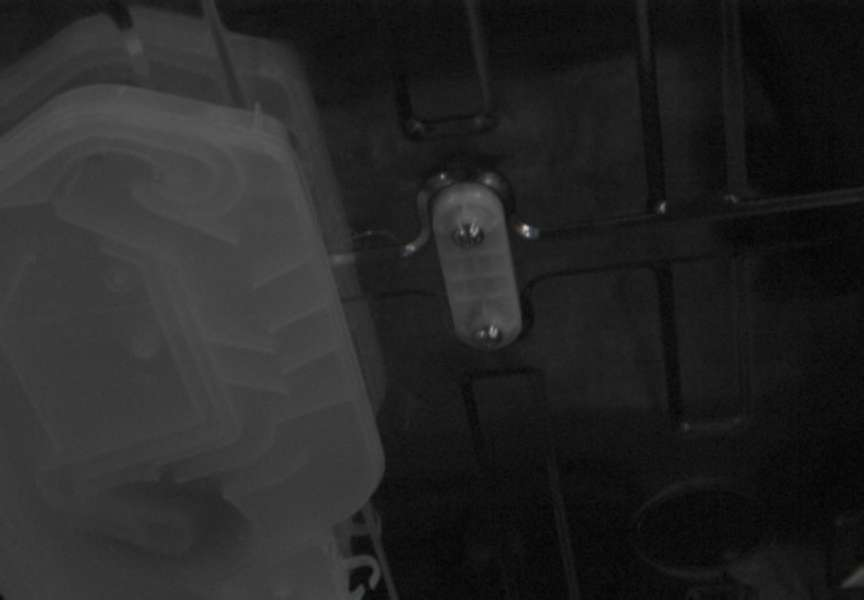screw: (452, 221, 485, 249), (474, 324, 503, 348)
